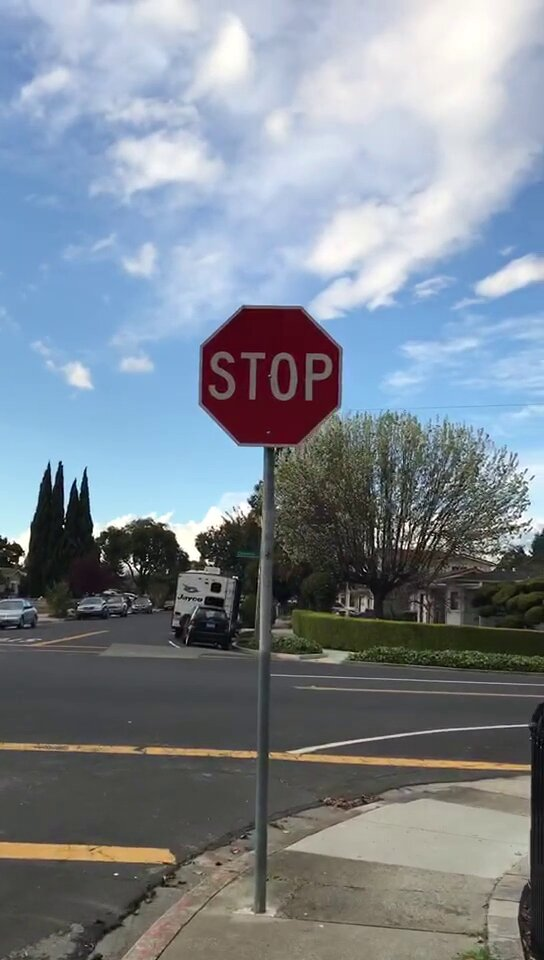stop_sign: (201, 309, 343, 448)
